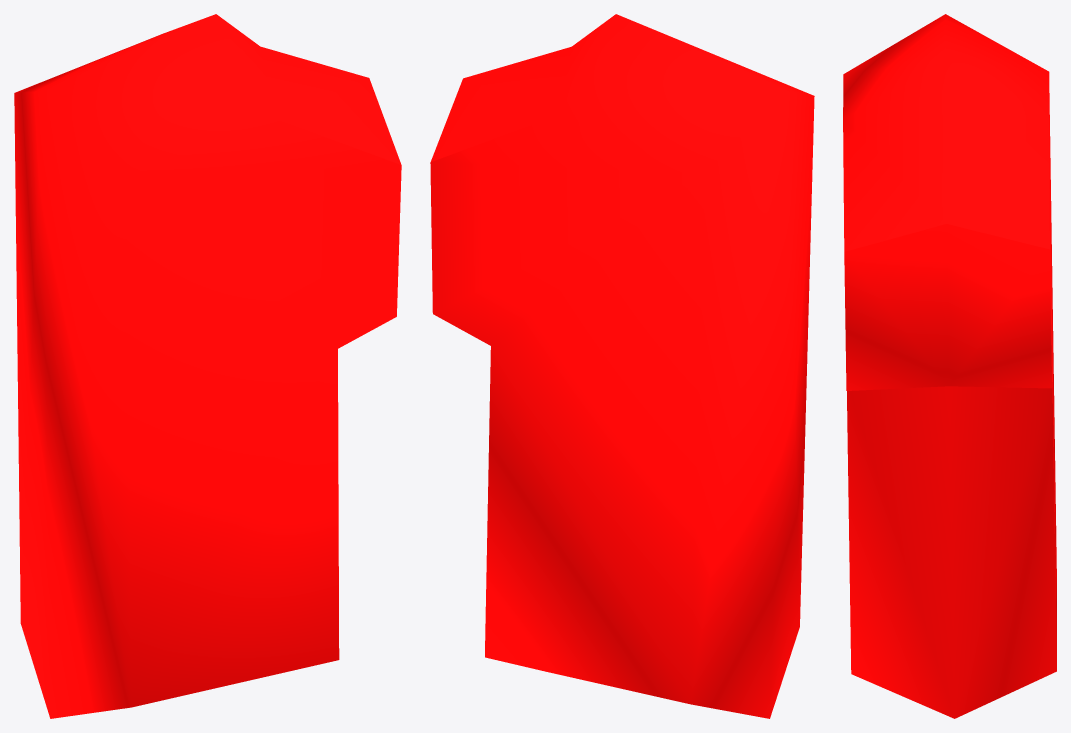
File: red_1.glb
The picture shows the model from 3 angles, left to right: view 1: azimuth 30°, elevation 25°; view 2: azimuth 150°, elevation 25°; view 3: azimuth 270°, elevation 25°; orthographic projection. The views are drawn at different scales.
Visible parts, largest first — view 1: Red_1; view 2: Red_1; view 3: Red_1.
Part boxes in pixels (<box>): Red_1: <box>14,14,401,718</box>; Red_1: <box>430,14,814,718</box>; Red_1: <box>843,14,1056,718</box>.
Size of the model in its own units: 0.3236 by 0.6396 by 0.1973.
1 material, 1 textured.
